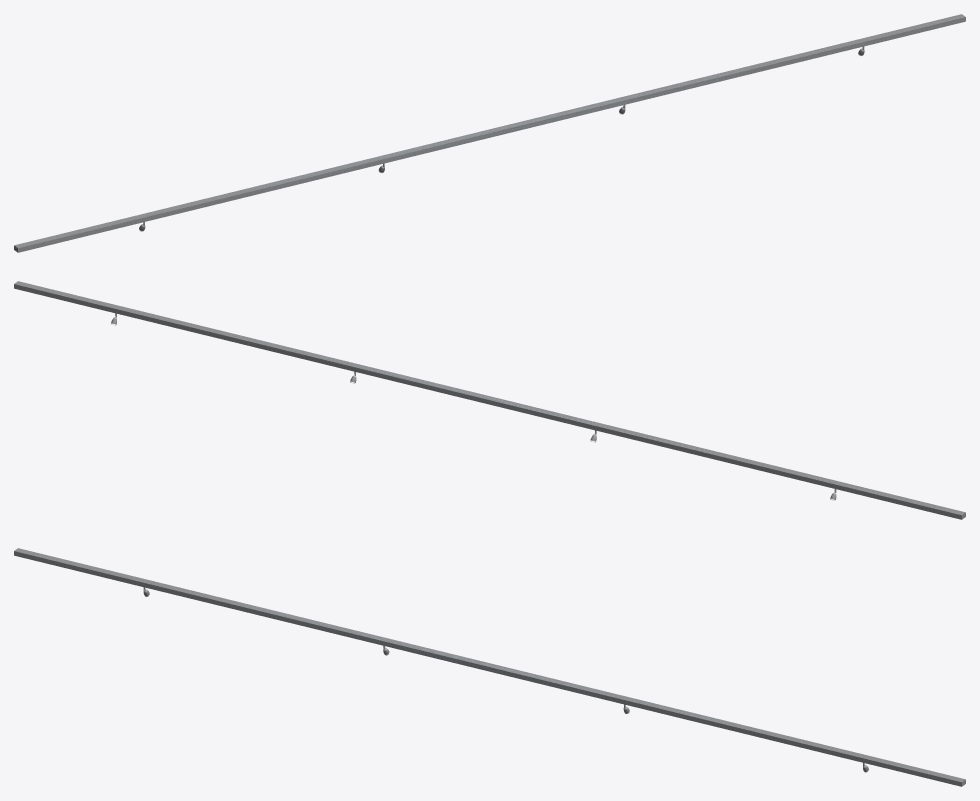
Rendered from Spotlights2.fbx.
3 views of the same model, one above another, from view 1: azimuth 30°, elevation 25°; view 2: azimuth 150°, elevation 25°; view 3: azimuth 330°, elevation 25° (orthographic).
Parts seen in each view (by area): view 1: Group2; view 2: Group2; view 3: Group2.
Part boxes in pixels (box(x1,y1,x2,y2)): Group2: box(14, 14, 965, 252); Group2: box(14, 281, 965, 519); Group2: box(14, 548, 965, 786).
Size of the model in its own units: 9187 by 159 by 102.
